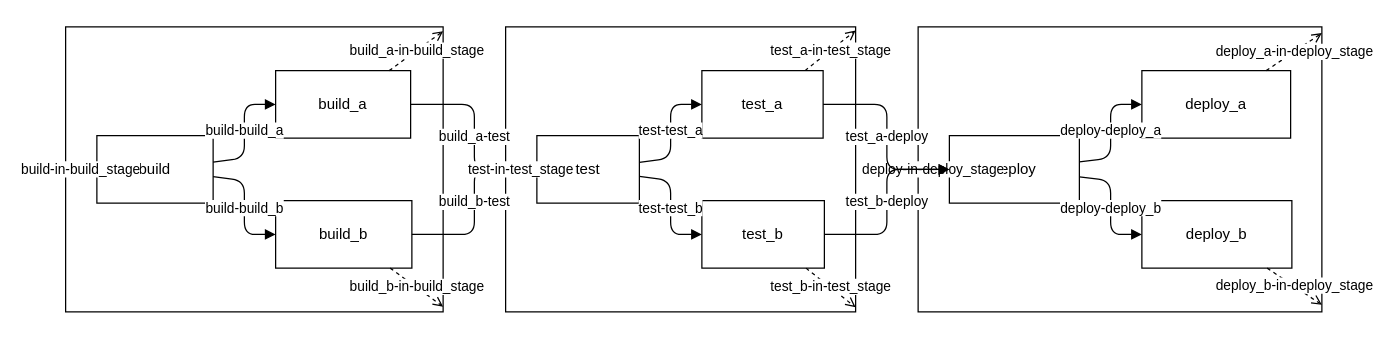
The diagram is 1395 pixels wide and 340 high, and some of its shapes have lost their labels. The shapes that lost their labels are listed below. From the top down, each one's centre as x and y in pixels, then its label:
the point at 253,169: build stage
the point at 680,169: test stage
the point at 1119,169: deploy stage
